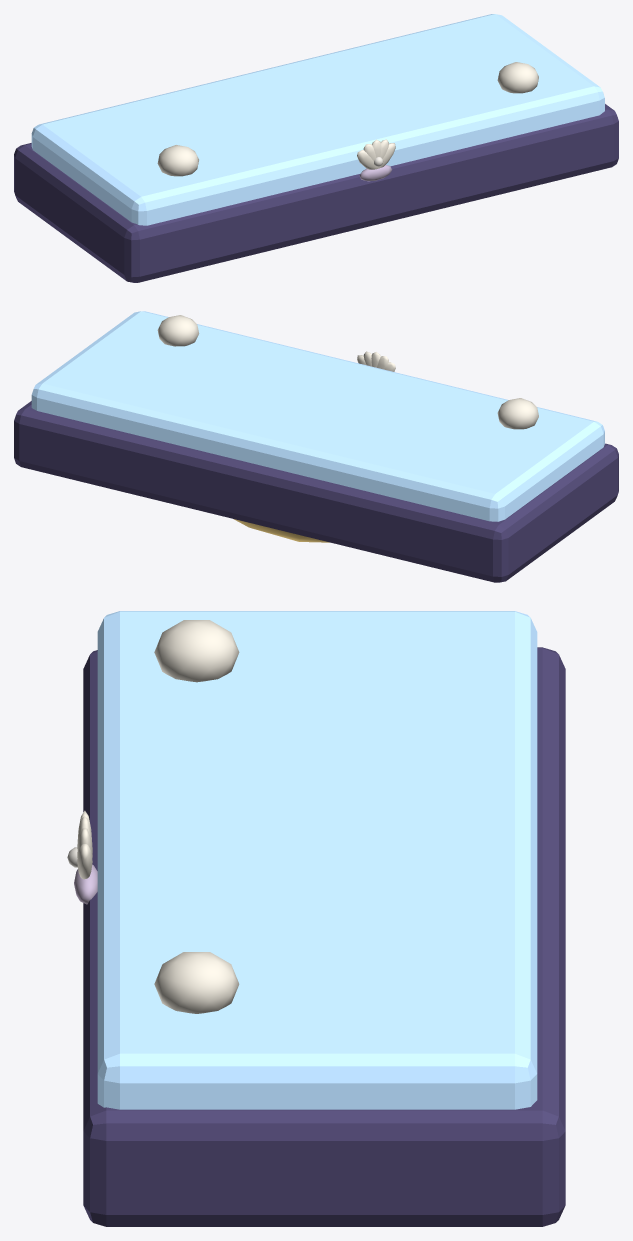
Rendered from pearl_music_bar_5.glb.
3 renders of one model, top to bottom at view 1: azimuth 30°, elevation 25°; view 2: azimuth 150°, elevation 25°; view 3: azimuth 270°, elevation 25°, orthographic. The views are drawn at different scales.
Visible parts, largest first — view 1: pearl_music_bar_5.001; view 2: pearl_music_bar_5.001; view 3: pearl_music_bar_5.001.
Part boxes in pixels (<box>): pearl_music_bar_5.001: <box>14,14,618,282</box>; pearl_music_bar_5.001: <box>14,311,618,582</box>; pearl_music_bar_5.001: <box>67,611,565,1226</box>.
Bounding box in the file's own units: 6.43 × 1.7 × 2.81.
